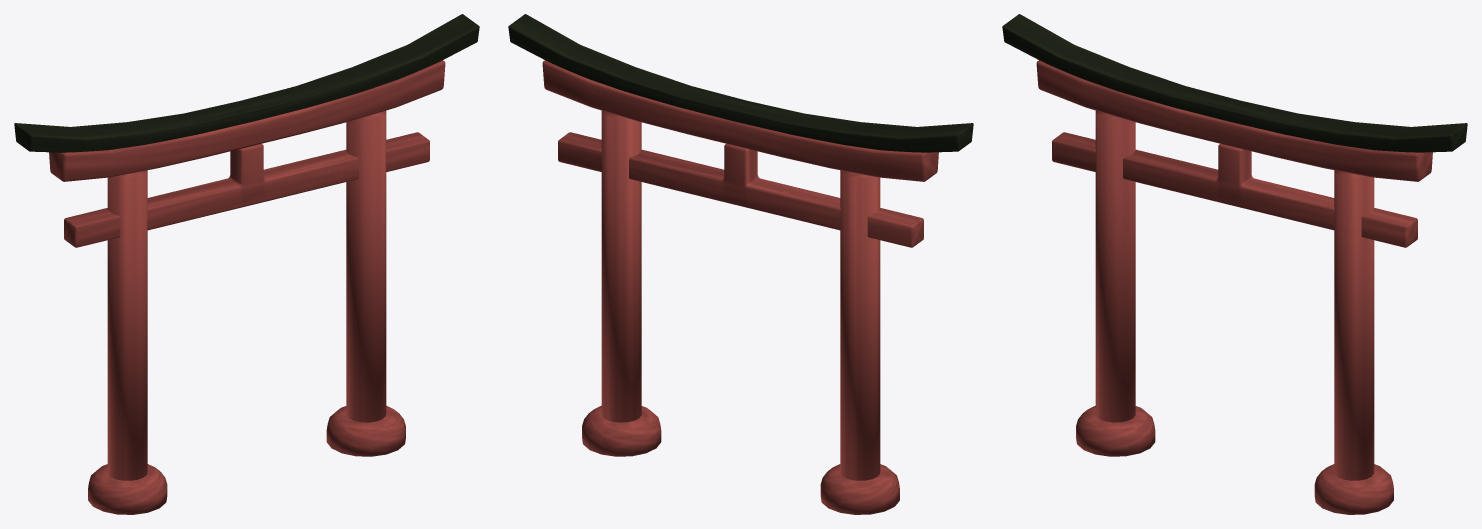
File: toriGate.fbx
The picture shows the model from 3 angles, left to right: view 1: azimuth 30°, elevation 25°; view 2: azimuth 150°, elevation 25°; view 3: azimuth 330°, elevation 25°; orthographic projection.
Parts seen in each view (by area): view 1: Cylinder, Cube.003, Cube.001, Cube.002; view 2: Cylinder, Cube.003, Cube.001, Cube.002; view 3: Cylinder, Cube.003, Cube.001, Cube.002.
Boxes of the visible parts, left/top/right/bottom form: Cylinder: left=88, top=110, right=405, bottom=514; Cube.003: left=14, top=14, right=479, bottom=152; Cube.001: left=64, top=132, right=429, bottom=247; Cube.002: left=49, top=60, right=445, bottom=181; Cylinder: left=582, top=110, right=899, bottom=514; Cube.003: left=508, top=14, right=973, bottom=152; Cube.001: left=558, top=132, right=923, bottom=247; Cube.002: left=542, top=60, right=938, bottom=181; Cylinder: left=1076, top=110, right=1393, bottom=514; Cube.003: left=1002, top=14, right=1467, bottom=152; Cube.001: left=1052, top=132, right=1417, bottom=247; Cube.002: left=1036, top=60, right=1432, bottom=181.
Size of the model in its own units: 208 by 174 by 32.09.
